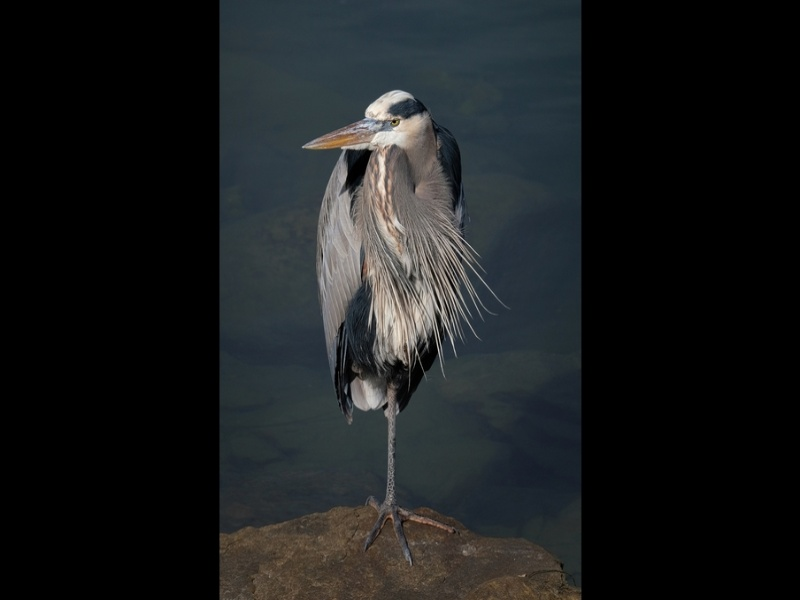heron: (301, 85, 473, 567)
